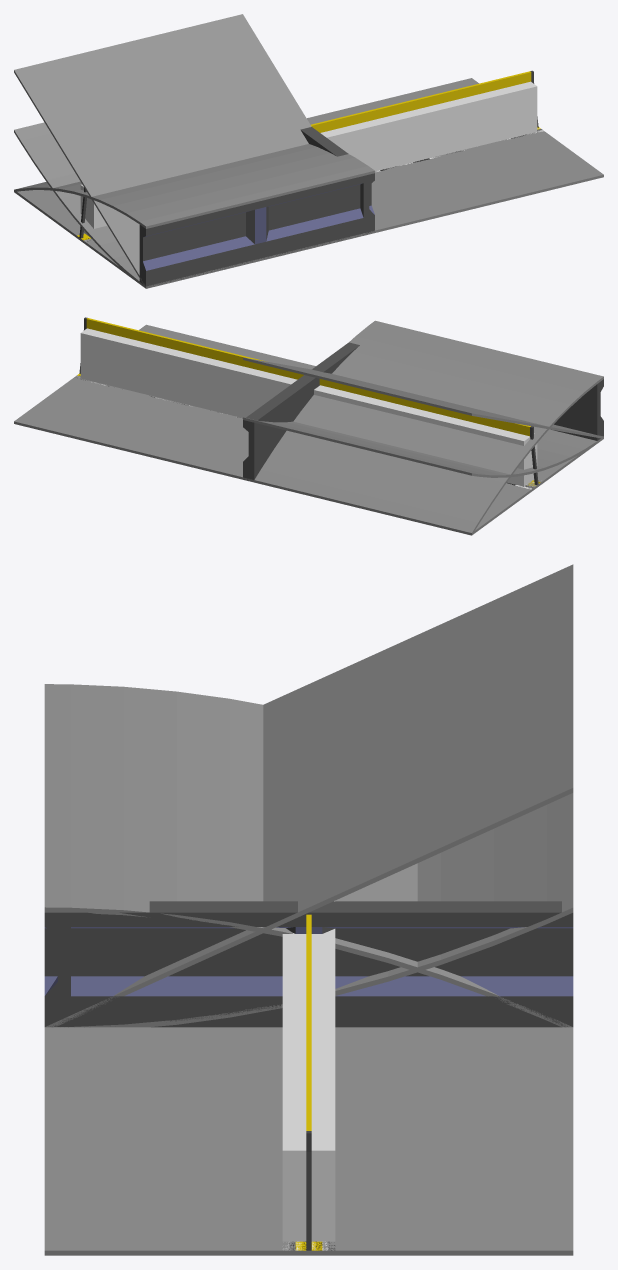
The picture shows the model from 3 angles, top to bottom: view 1: azimuth 30°, elevation 25°; view 2: azimuth 150°, elevation 25°; view 3: azimuth 270°, elevation 25°; orthographic projection. The views are drawn at different scales.
Parts seen in each view (by area): view 1: PlaneSlope, PlaneCheckpointWide, PlaneWall, PlaneSlopeDown, PlaneFinishDetectorWide, PlaneFinishWide, PlaneSlopeUp, PlaneWallCorner, PlaneCheckpoint, HalfPlane, PlaneWallInnerCorner, PlaneFinishDetector; view 2: PlaneSlopeDown, PlaneCheckpointWide, PlaneFinishDetectorWide, PlaneFinishWide, PlaneWallCorner, PlaneSlopeUp, PlaneFinishDetector, PlaneCheckpoint, PlaneSlope, PlaneWall, HalfPlane, Plane (+1 smaller); view 3: PlaneCheckpointWide, PlaneSlope, PlaneFinishWide, PlaneWallCorner, PlaneSlopeDown, PlaneFinishDetectorWide, PlaneSlopeUp, PlaneWallInnerCorner, PlaneWall.
Boxes of the visible parts, bbox=[...] form: PlaneSlope: bbox=[14, 14, 311, 286]; PlaneCheckpointWide: bbox=[18, 70, 603, 288]; PlaneWall: bbox=[139, 173, 374, 288]; PlaneSlopeDown: bbox=[14, 144, 374, 228]; PlaneFinishDetectorWide: bbox=[82, 81, 537, 227]; PlaneFinishWide: bbox=[27, 78, 601, 229]; PlaneSlopeUp: bbox=[14, 122, 144, 287]; PlaneWallCorner: bbox=[147, 127, 374, 234]; PlaneCheckpoint: bbox=[15, 187, 371, 288]; HalfPlane: bbox=[14, 190, 374, 288]; PlaneWallInnerCorner: bbox=[360, 174, 374, 233]; PlaneFinishDetector: bbox=[80, 184, 107, 237]; PlaneSlopeDown: bbox=[254, 320, 603, 532]; PlaneCheckpointWide: bbox=[14, 317, 573, 534]; PlaneFinishDetectorWide: bbox=[80, 328, 528, 486]; PlaneFinishWide: bbox=[16, 325, 530, 527]; PlaneWallCorner: bbox=[243, 342, 597, 480]; PlaneSlopeUp: bbox=[243, 417, 596, 477]; PlaneFinishDetector: bbox=[314, 385, 537, 486]; PlaneCheckpoint: bbox=[243, 379, 603, 535]; PlaneSlope: bbox=[243, 357, 603, 438]; PlaneWall: bbox=[553, 379, 603, 440]; HalfPlane: bbox=[472, 437, 603, 534]; Plane: bbox=[243, 463, 566, 535]; PlaneCheckpointWide: bbox=[44, 914, 573, 1255]; PlaneSlope: bbox=[45, 564, 573, 1027]; PlaneFinishWide: bbox=[44, 1027, 573, 1255]; PlaneWallCorner: bbox=[44, 901, 573, 1027]; PlaneSlopeDown: bbox=[44, 684, 572, 1027]; PlaneFinishDetectorWide: bbox=[282, 929, 335, 1241]; PlaneSlopeUp: bbox=[54, 793, 573, 1027]; PlaneWallInnerCorner: bbox=[44, 921, 70, 1027]; PlaneWall: bbox=[44, 912, 70, 1026].
Bounding box in the file's own units: 40 × 10.21 × 20.
